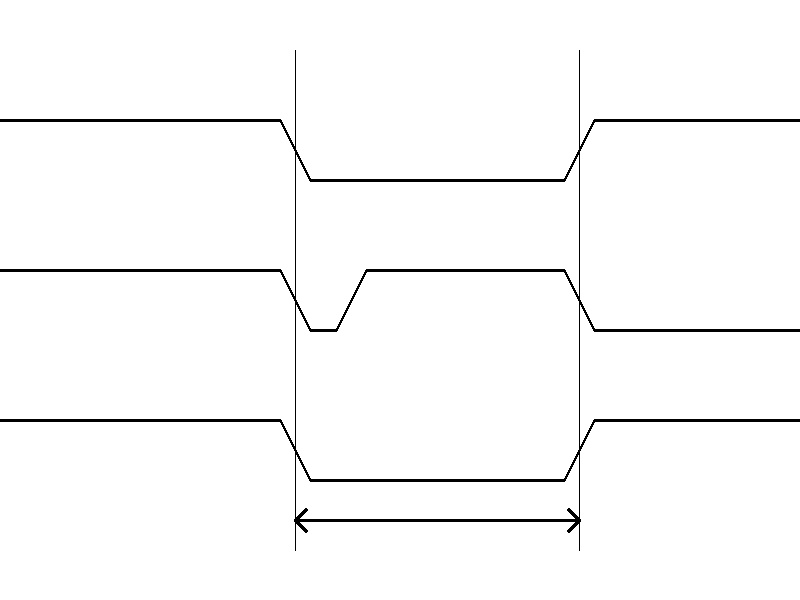double_arrow: (295, 505, 579, 535)
